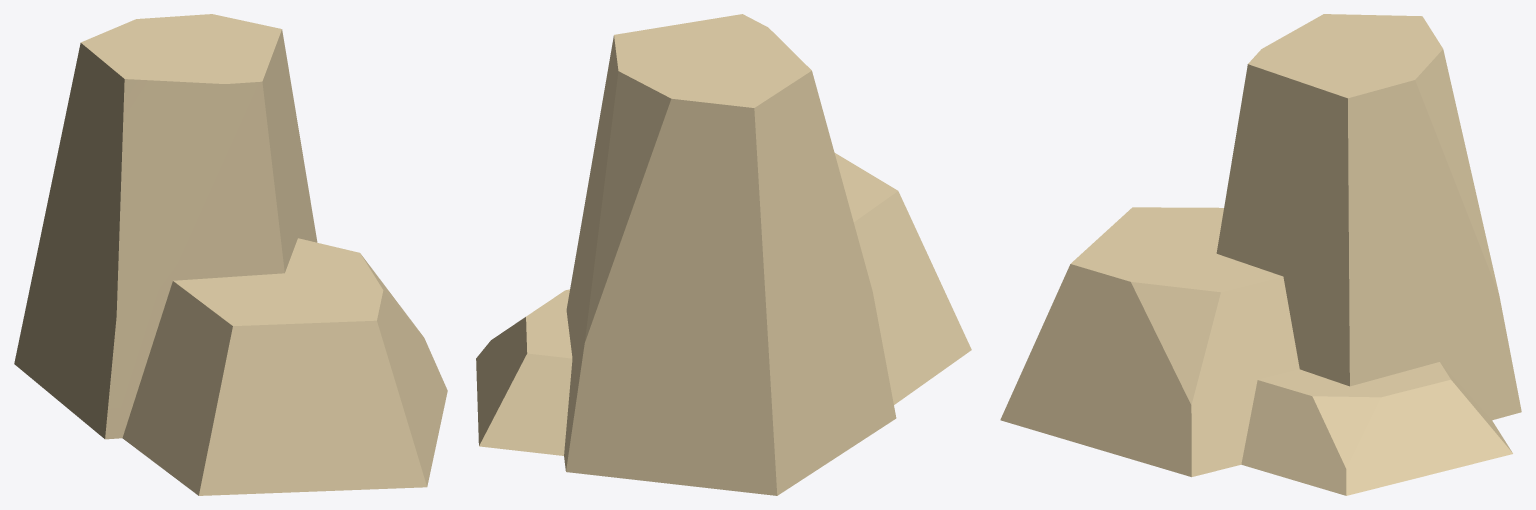
File: rockA.dae
The picture shows the model from 3 angles, left to right: view 1: azimuth 30°, elevation 25°; view 2: azimuth 150°, elevation 25°; view 3: azimuth 270°, elevation 25°; orthographic projection. The views are drawn at different scales.
Parts seen in each view (by area): view 1: rockA; view 2: rockA; view 3: rockA.
Part boxes in pixels (x1,y1,x2,y2): rockA: (14, 14, 447, 495); rockA: (476, 14, 971, 495); rockA: (1000, 14, 1521, 495).
Bounding box in the file's own units: 1.73 × 1.57 × 2.22.
